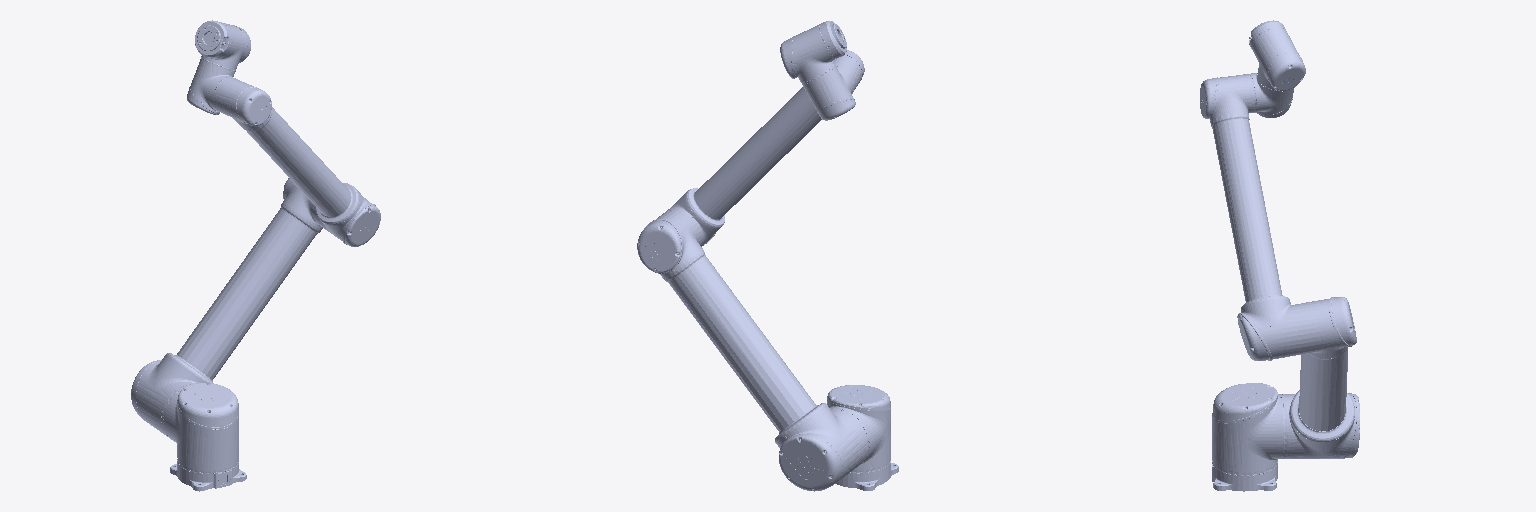
The robot description file, URDF, robot "UR10_urdf":
<?xml version="1.0" encoding="utf-8"?>
<!-- This URDF was automatically created by SolidWorks to URDF Exporter! Originally created by [author] ([email redacted]) 
     Commit Version: 1.6.0-1-g15f4949  Build Version: 1.6.7594.29634
     For more information, please see http://wiki.ros.org/sw_urdf_exporter -->
<robot
  name="UR10_urdf">
  <link
    name="base">
    <inertial>
      <origin
        xyz="6.991E-06 -0.00015935 0.018435"
        rpy="0 0 0" />
      <mass
        value="0.70632" />
      <inertia
        ixx="0.0011556"
        ixy="4.8008E-08"
        ixz="7.8755E-08"
        iyy="0.0011458"
        iyz="1.9954E-07"
        izz="0.002129" />
    </inertial>
    <visual>
      <origin
        xyz="0 0 0"
        rpy="0 0 0" />
      <geometry>
        <mesh
          filename="package://UR10_urdf/meshes/base.STL" />
      </geometry>
      <material
        name="">
        <color
          rgba="0.79216 0.81961 0.93333 1" />
      </material>
    </visual>
    <collision>
      <origin
        xyz="0 0 0"
        rpy="0 0 0" />
      <geometry>
        <mesh
          filename="package://UR10_urdf/meshes/base.STL" />
      </geometry>
    </collision>
  </link>
  <link
    name="L1">
    <inertial>
      <origin
        xyz="-0.00024345 0.012051 0.078476"
        rpy="0 0 0" />
      <mass
        value="3.0736" />
      <inertia
        ixx="0.011477"
        ixy="1.6199E-05"
        ixz="1.7305E-05"
        iyy="0.010717"
        iyz="-0.00085827"
        izz="0.01012" />
    </inertial>
    <visual>
      <origin
        xyz="0 0 0"
        rpy="0 0 0" />
      <geometry>
        <mesh
          filename="package://UR10_urdf/meshes/L1.STL" />
      </geometry>
      <material
        name="">
        <color
          rgba="0.79216 0.81961 0.93333 1" />
      </material>
    </visual>
    <collision>
      <origin
        xyz="0 0 0"
        rpy="0 0 0" />
      <geometry>
        <mesh
          filename="package://UR10_urdf/meshes/L1.STL" />
      </geometry>
    </collision>
  </link>
  <joint
    name="J1"
    type="continuous">
    <origin
      xyz="0 -0.00043847 0.038"
      rpy="0 0 0" />
    <parent
      link="base" />
    <child
      link="L1" />
    <axis
      xyz="0 0 -1" />
  </joint>
  <link
    name="L2">
    <inertial>
      <origin
        xyz="-0.170466686280777 0.184277100764124 0.0843596758122654"
        rpy="0 0 0" />
      <mass
        value="8.7125435216767" />
      <inertia
        ixx="0.0612342711245548"
        ixy="0.0381810715261328"
        ixz="0.000368333139867419"
        iyy="0.0552016671196638"
        iyz="-0.000466971284805934"
        izz="0.0949259656770597" />
    </inertial>
    <visual>
      <origin
        xyz="0 0 0"
        rpy="0 0 0" />
      <geometry>
        <mesh
          filename="package://UR10_urdf/meshes/L2.STL" />
      </geometry>
      <material
        name="">
        <color
          rgba="0.792156862745098 0.819607843137255 0.933333333333333 1" />
      </material>
    </visual>
    <collision>
      <origin
        xyz="0 0 0"
        rpy="0 0 0" />
      <geometry>
        <mesh
          filename="package://UR10_urdf/meshes/L2.STL" />
      </geometry>
    </collision>
  </link>
  <joint
    name="J2"
    type="continuous">
    <origin
      xyz="-0.0018379 0.086419 0.090017"
      rpy="1.5708 0 -3.1202" />
    <parent
      link="L1" />
    <child
      link="L2" />
    <axis
      xyz="0 0 -1" />
  </joint>
  <link
    name="L3">
    <inertial>
      <origin
        xyz="-0.166158183908544 0.195955372461686 0.0564886344527407"
        rpy="0 0 0" />
      <mass
        value="4.65333763991434" />
      <inertia
        ixx="0.0325979038230832"
        ixy="0.0225636310400495"
        ixz="5.78725851976968E-05"
        iyy="0.0250642007568074"
        iyz="-0.000123343857396647"
        izz="0.051429140935728" />
    </inertial>
    <visual>
      <origin
        xyz="0 0 0"
        rpy="0 0 0" />
      <geometry>
        <mesh
          filename="package://UR10_urdf/meshes/L3.STL" />
      </geometry>
      <material
        name="">
        <color
          rgba="0.792156862745098 0.819607843137255 0.933333333333333 1" />
      </material>
    </visual>
    <collision>
      <origin
        xyz="0 0 0"
        rpy="0 0 0" />
      <geometry>
        <mesh
          filename="package://UR10_urdf/meshes/L3.STL" />
      </geometry>
    </collision>
  </link>
  <joint
    name="J3"
    type="continuous">
    <origin
      xyz="-0.42424 0.44248 0.02289"
      rpy="-3.0256 -0.12659 -3.1416" />
    <parent
      link="L2" />
    <child
      link="L3" />
    <axis
      xyz="0 0 -1" />
  </joint>
  <link
    name="L4">
    <inertial>
      <origin
        xyz="-0.00475636784049715 0.00849682527660578 0.0463998078221385"
        rpy="0 0 0" />
      <mass
        value="0.728402778335918" />
      <inertia
        ixx="0.00105990574199636"
        ixy="9.85316264361485E-05"
        ixz="4.43013009234909E-05"
        iyy="0.000938732600142885"
        iyz="-7.92607911115811E-05"
        izz="0.00103086548225098" />
    </inertial>
    <visual>
      <origin
        xyz="0 0 0"
        rpy="0 0 0" />
      <geometry>
        <mesh
          filename="package://UR10_urdf/meshes/L4.STL" />
      </geometry>
      <material
        name="">
        <color
          rgba="0.792156862745098 0.819607843137255 0.933333333333333 1" />
      </material>
    </visual>
    <collision>
      <origin
        xyz="0 0 0"
        rpy="0 0 0" />
      <geometry>
        <mesh
          filename="package://UR10_urdf/meshes/L4.STL" />
      </geometry>
    </collision>
  </link>
  <joint
    name="J4"
    type="continuous">
    <origin
      xyz="-0.37667 0.43005 -0.0012322"
      rpy="-3.0381 -0.11953 3.1276" />
    <parent
      link="L3" />
    <child
      link="L4" />
    <axis
      xyz="0 0 -1" />
  </joint>
  <link
    name="L5">
    <inertial>
      <origin
        xyz="-0.0019928 0.0095317 0.0464"
        rpy="0 0 0" />
      <mass
        value="0.72841" />
      <inertia
        ixx="0.0011054"
        ixy="4.6168E-05"
        ixz="1.8512E-05"
        iyy="0.00089325"
        iyz="-8.8889E-05"
        izz="0.0010308" />
    </inertial>
    <visual>
      <origin
        xyz="0 0 0"
        rpy="0 0 0" />
      <geometry>
        <mesh
          filename="package://UR10_urdf/meshes/L5.STL" />
      </geometry>
      <material
        name="">
        <color
          rgba="0.79216 0.81961 0.93333 1" />
      </material>
    </visual>
    <collision>
      <origin
        xyz="0 0 0"
        rpy="0 0 0" />
      <geometry>
        <mesh
          filename="package://UR10_urdf/meshes/L5.STL" />
      </geometry>
    </collision>
  </link>
  <joint
    name="J5"
    type="continuous">
    <origin
      xyz="-0.030124 0.053846 0.054"
      rpy="1.5708 -1.5434 -2.6315" />
    <parent
      link="L4" />
    <child
      link="L5" />
    <axis
      xyz="0 0 -1" />
  </joint>
  <link
    name="endef">
    <inertial>
      <origin
        xyz="-0.00094644 7.506E-05 0.013039"
        rpy="0 0 0" />
      <mass
        value="0.15924" />
      <inertia
        ixx="8.7722E-05"
        ixy="-4.6099E-07"
        ixz="4.7126E-07"
        iyy="8.1947E-05"
        iyz="-3.7353E-08"
        izz="0.00014963" />
    </inertial>
    <visual>
      <origin
        xyz="0 0 0"
        rpy="0 0 0" />
      <geometry>
        <mesh
          filename="package://UR10_urdf/meshes/endef.STL" />
      </geometry>
      <material
        name="">
        <color
          rgba="0.79216 0.81961 0.93333 1" />
      </material>
    </visual>
    <collision>
      <origin
        xyz="0 0 0"
        rpy="0 0 0" />
      <geometry>
        <mesh
          filename="package://UR10_urdf/meshes/endef.STL" />
      </geometry>
    </collision>
  </link>
  <joint
    name="J6"
    type="continuous">
    <origin
      xyz="-0.0126 0.0604 0.054"
      rpy="1.5708 -0.1138 -2.9359" />
    <parent
      link="L5" />
    <child
      link="endef" />
    <axis
      xyz="0 0 -1" />
  </joint>
</robot>

--- Facts derived from the render (not from the file) ---
Views: 3 orthographic renders of the robot side by side, from view 1: azimuth 30°, elevation 25°; view 2: azimuth 150°, elevation 25°; view 3: azimuth 270°, elevation 25°.
Robot: UR10_urdf — 7 links, 6 joints (6 continuous); root link base; default pose: every joint at zero.
Visible links, largest first — view 1: L2, L3, L1, L4, base, endef, L5; view 2: L2, L3, L1, L5, L4, base, endef; view 3: L3, L2, L1, L5, base, L4.
Link boxes in pixels (<box>): L2: <box>131,178,322,436</box>; L3: <box>213,77,380,246</box>; L1: <box>163,383,238,473</box>; L4: <box>187,57,235,114</box>; base: <box>170,462,246,491</box>; endef: <box>195,20,230,57</box>; L5: <box>201,22,250,69</box>; L2: <box>637,210,869,491</box>; L3: <box>666,50,864,246</box>; L1: <box>827,385,890,473</box>; L5: <box>780,24,836,81</box>; L4: <box>800,64,855,120</box>; base: <box>836,463,898,490</box>; endef: <box>820,21,846,57</box>; L3: <box>1200,74,1300,360</box>; L2: <box>1282,297,1359,458</box>; L1: <box>1212,383,1282,475</box>; L5: <box>1251,27,1305,90</box>; base: <box>1212,464,1277,491</box>; L4: <box>1250,73,1294,117</box>.
Bounding box of the posed robot: 0.5729 × 0.3684 × 1.18 m (x, y, z).
Meshes: 7 distinct files referenced, 7 mesh visuals loaded (7 binary STL).